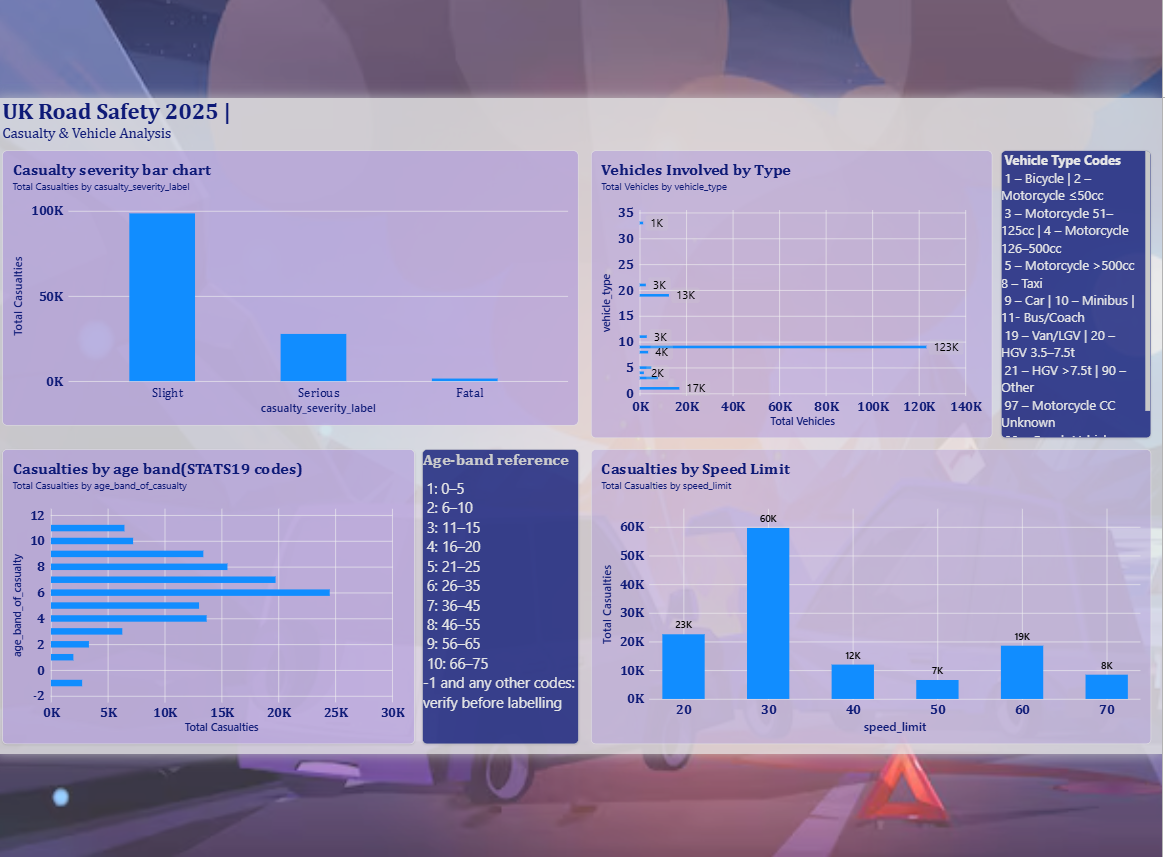

The page's visual inventory and layout, read from the dashboard file:
{"tool":"powerbi","page":{"name":"Casualty and Vehicle Analysis","canvas":[1920,1080],"ordinal":1},"visuals":[{"type":"textbox","box":[10.3,0,821.3,86.4],"z":0},{"type":"clusteredColumnChart","title":"Casualty severity bar chart","fields":{"Category":["casualties_2025.casualty_severity_label"],"Y":["casualties_2025.Total Casualties"]},"box":[10.3,86.4,948.9,452.8],"z":1},{"type":"clusteredBarChart","title":"Casualties by age band(STATS19 codes)","fields":{"Category":["casualties_2025.age_band_of_casualty"],"Y":["casualties_2025.Total Casualties"]},"box":[10.3,578.4,679.2,485.8],"z":2},{"type":"clusteredBarChart","title":"Vehicles Involved by Type","fields":{"Category":["vehicles_2025.vehicle_type"],"Y":["vehicles_2025.Total Vehicles"]},"box":[979.8,86.4,660.7,473.4],"z":3},{"type":"textbox","title":" Age-band reference","box":[701.9,578.4,257.3,485.8],"z":4},{"type":"textbox","box":[1654.9,86.4,247,473.4],"z":6},{"type":"clusteredColumnChart","title":"Casualties by Speed Limit","fields":{"Category":["collisions_2025.speed_limit"],"Y":["casualties_2025.Total Casualties"]},"box":[979.8,578.4,922.1,485.8],"z":7}]}

Visuals, with their boxes on the page's 1920x1080 design canvas (x1, y1, x2, y2). These are canvas units, not pixel positions in the 1165x857 screenshot, which may show the page scaled, cropped or inside an application window:
textbox: bbox=(10, 0, 832, 86)
"Casualty severity bar chart" clusteredColumnChart: bbox=(10, 86, 959, 539)
"Casualties by age band(STATS19 codes)" clusteredBarChart: bbox=(10, 578, 690, 1064)
"Vehicles Involved by Type" clusteredBarChart: bbox=(980, 86, 1640, 560)
" Age-band reference" textbox: bbox=(702, 578, 959, 1064)
textbox: bbox=(1655, 86, 1902, 560)
"Casualties by Speed Limit" clusteredColumnChart: bbox=(980, 578, 1902, 1064)
